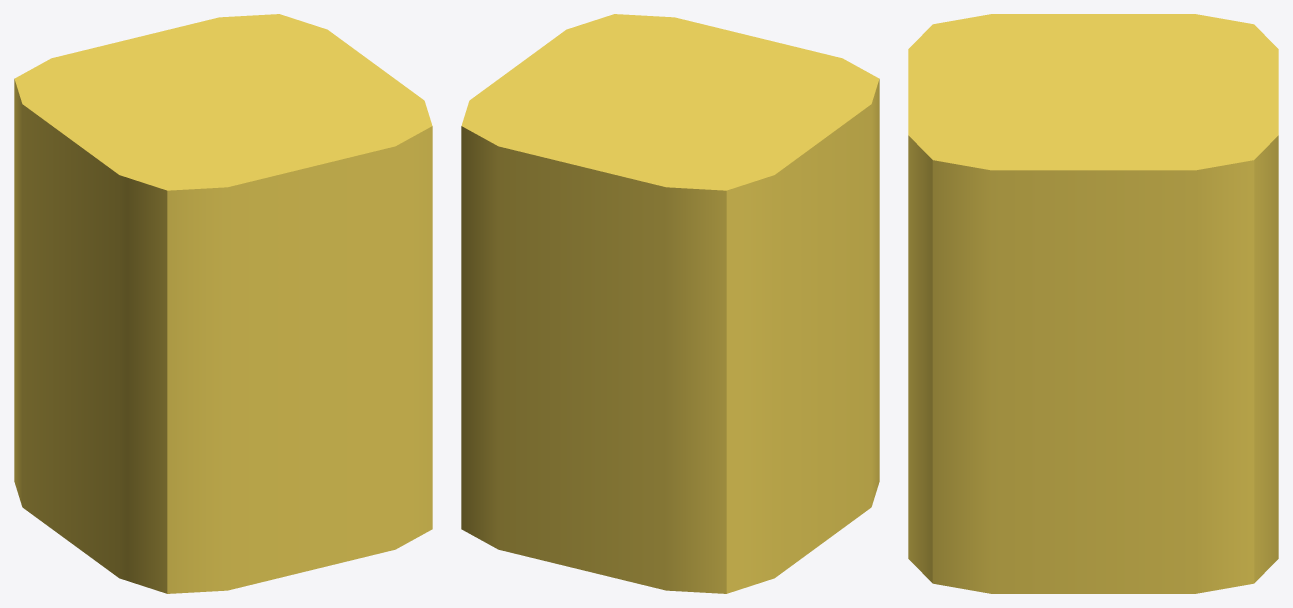
File: Cheese_Block.fbx
3 renders of one model, left to right at view 1: azimuth 30°, elevation 25°; view 2: azimuth 150°, elevation 25°; view 3: azimuth 270°, elevation 25°, orthographic. The views are drawn at different scales.
Visible parts, largest first — view 1: polySurface94; view 2: polySurface94; view 3: polySurface94.
Part boxes in pixels (x1,y1,x2,y2): polySurface94: [14, 14, 432, 593]; polySurface94: [461, 14, 879, 593]; polySurface94: [908, 14, 1278, 593].
Bounding box in the file's own units: 15.23 × 19.22 × 15.23.
